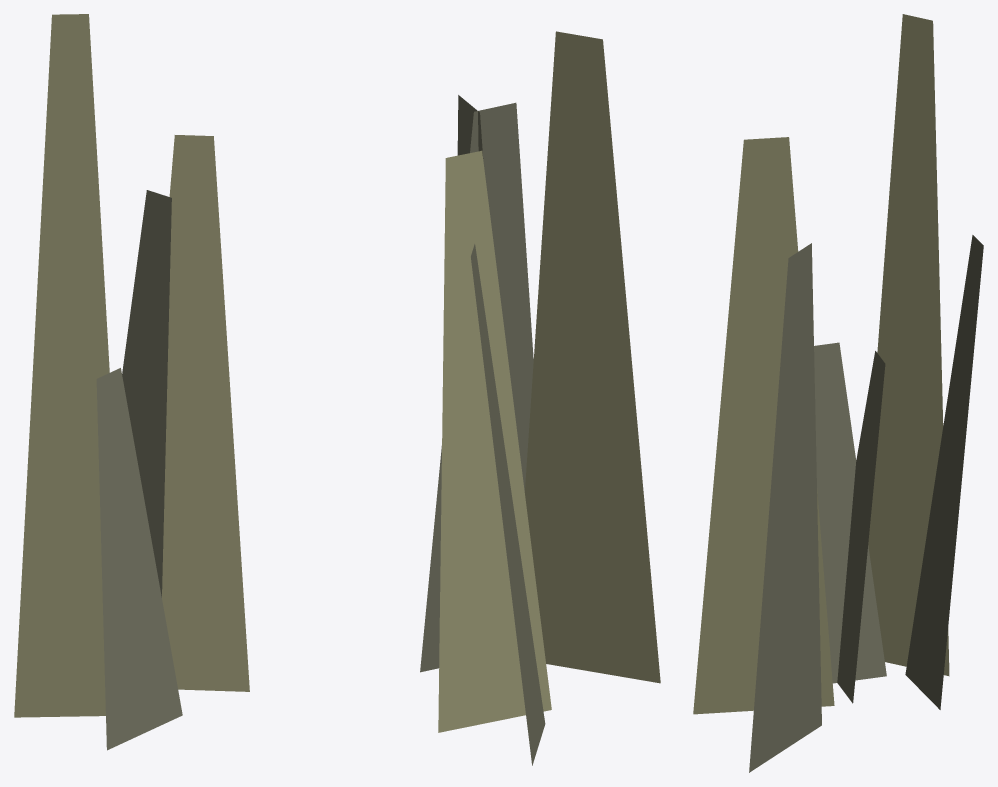
Rendered from nong.mai@subadult__winter.glb.
The picture shows the model from 3 angles, left to right: view 1: azimuth 30°, elevation 25°; view 2: azimuth 150°, elevation 25°; view 3: azimuth 270°, elevation 25°; orthographic projection. The views are drawn at different scales.
Visible parts, largest first — view 1: nong.mai@subadult__winter; view 2: nong.mai@subadult__winter; view 3: nong.mai@subadult__winter.
Part boxes in pixels (x1,y1,x2,y2): nong.mai@subadult__winter: [14, 14, 249, 750]; nong.mai@subadult__winter: [420, 31, 660, 765]; nong.mai@subadult__winter: [693, 14, 983, 772].
Size of the model in its own units: 0.2109 by 0.4917 by 0.2037.
